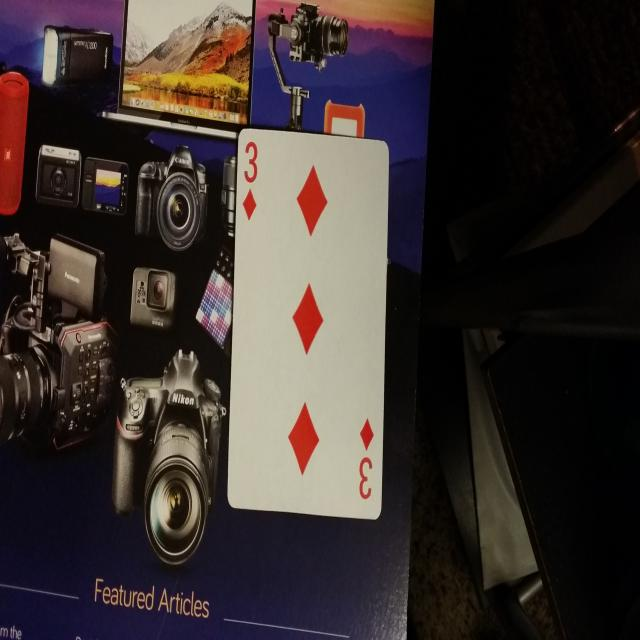3d: (236, 132, 268, 227), (352, 409, 376, 508)
